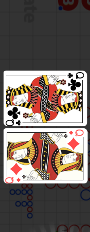9D: (68, 128, 85, 136)
